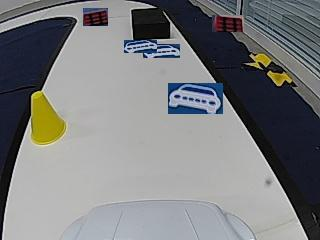block: (131, 9, 170, 40)
cone: (30, 91, 66, 145)
